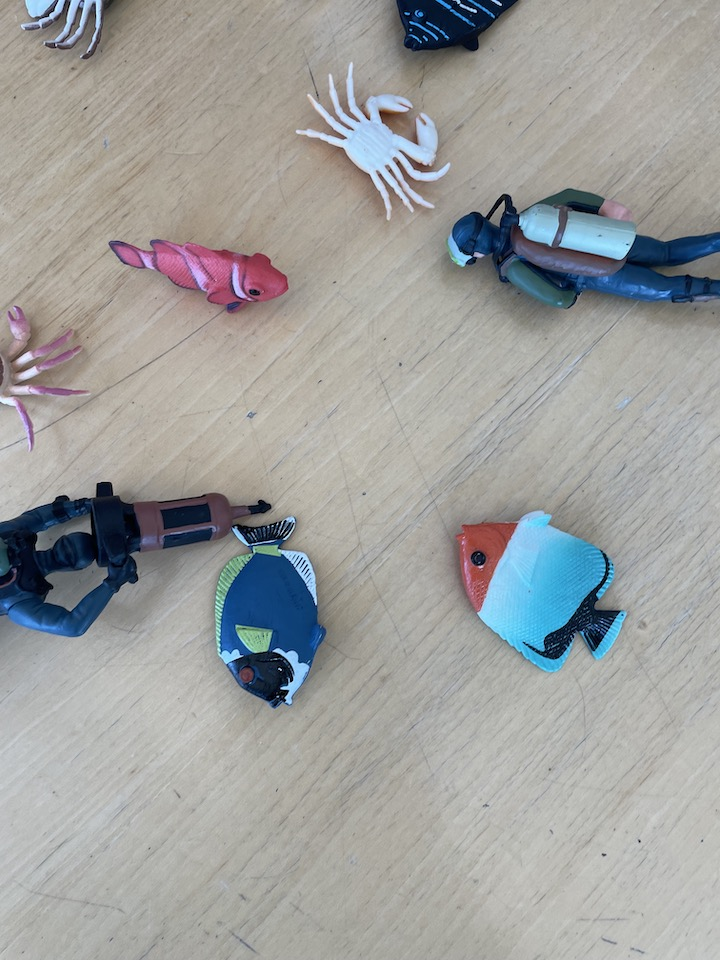crab: (289, 58, 455, 225), (1, 300, 91, 450), (17, 1, 124, 61)
diver: (1, 477, 277, 644), (445, 186, 720, 313)
fish: (448, 509, 630, 679), (212, 512, 329, 714), (104, 232, 295, 318), (393, 1, 524, 57)
